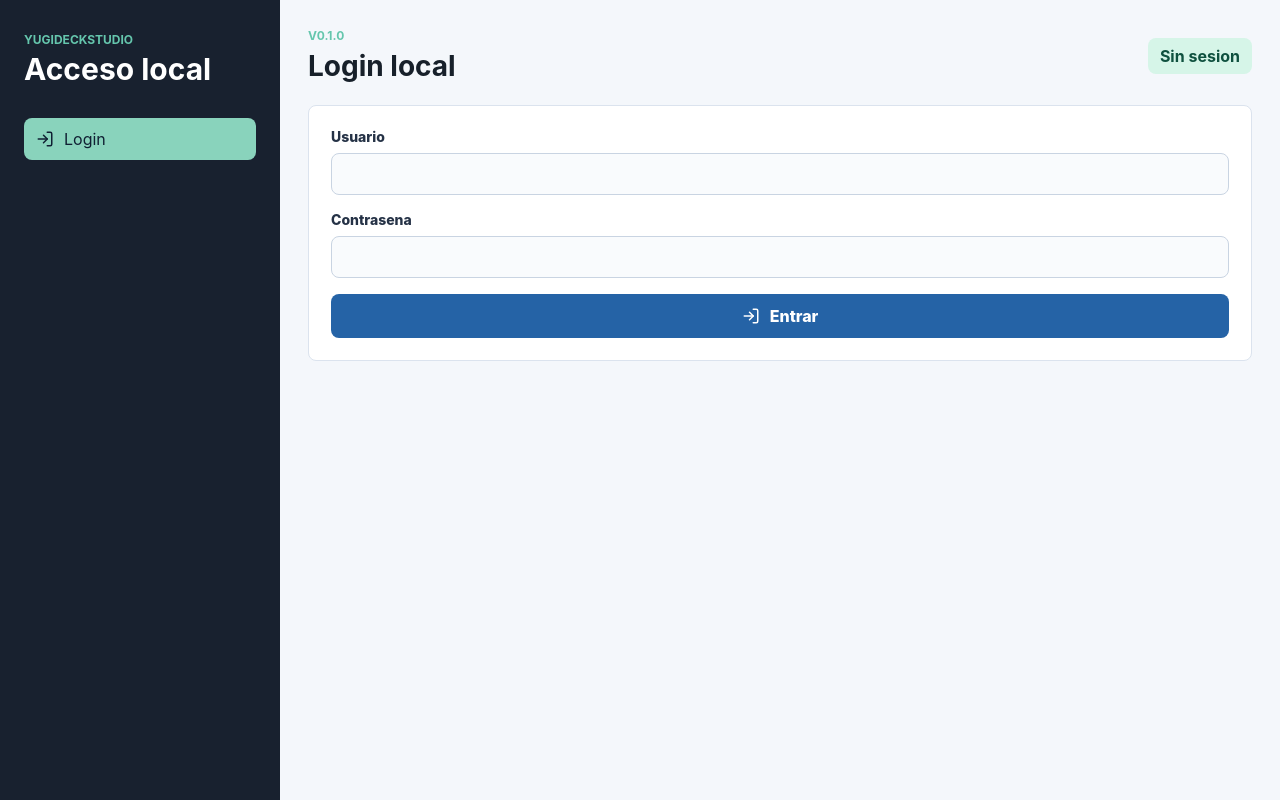
Test: App › hides root-only navigation for operators
In the field labelled "Usuario": x=780, y=174 top-left (331, 153), bottom-right (1229, 195), type "operator"
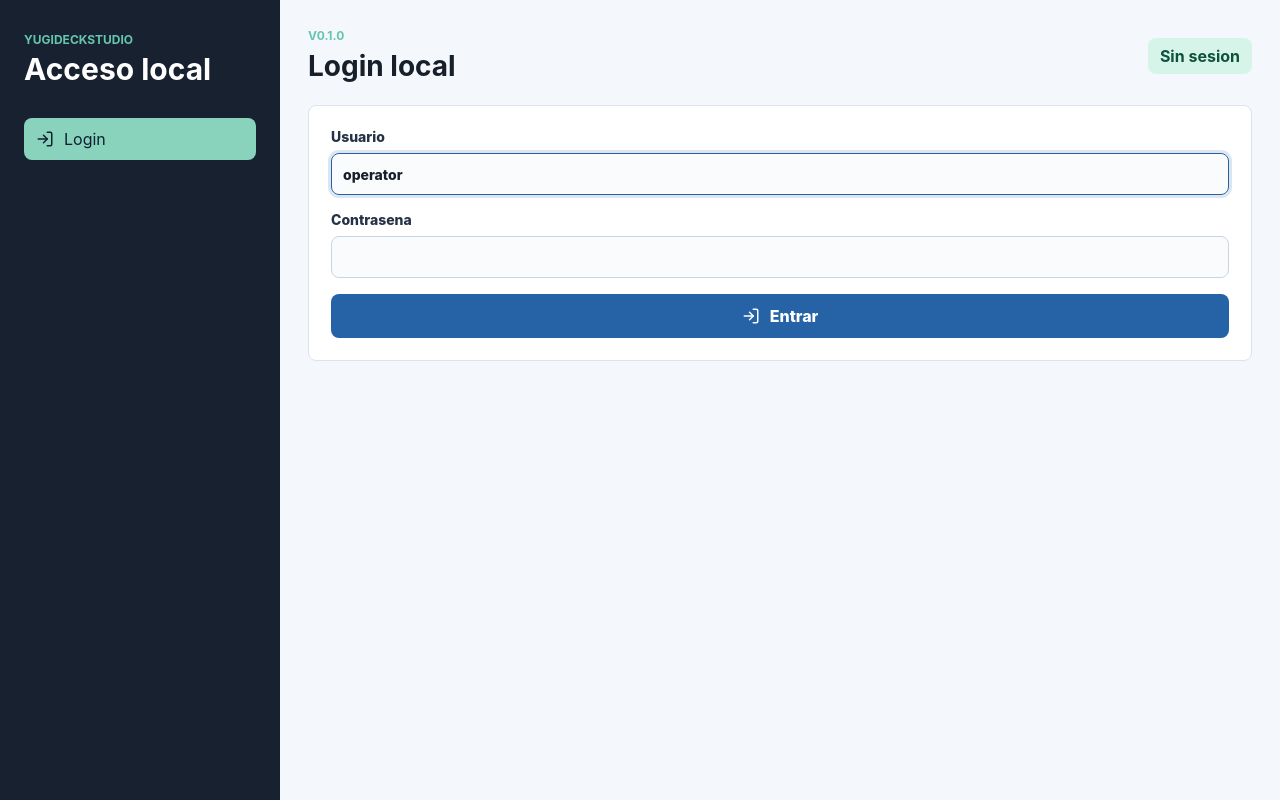
In the password field labelled "Contrasena": x=780, y=257 top-left (331, 236), bottom-right (1229, 278), type "Operator123!"
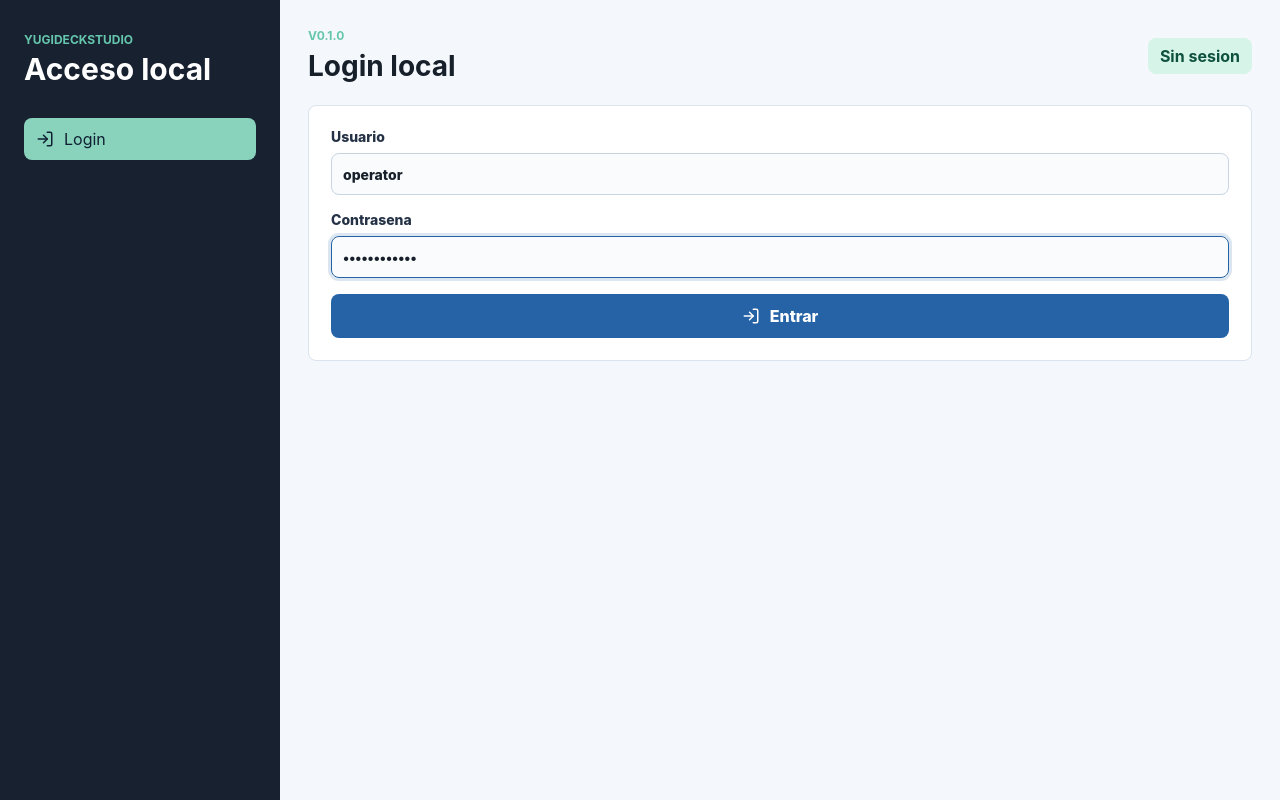
Click the button "Entrar": x=780, y=316 top-left (331, 294), bottom-right (1229, 338)
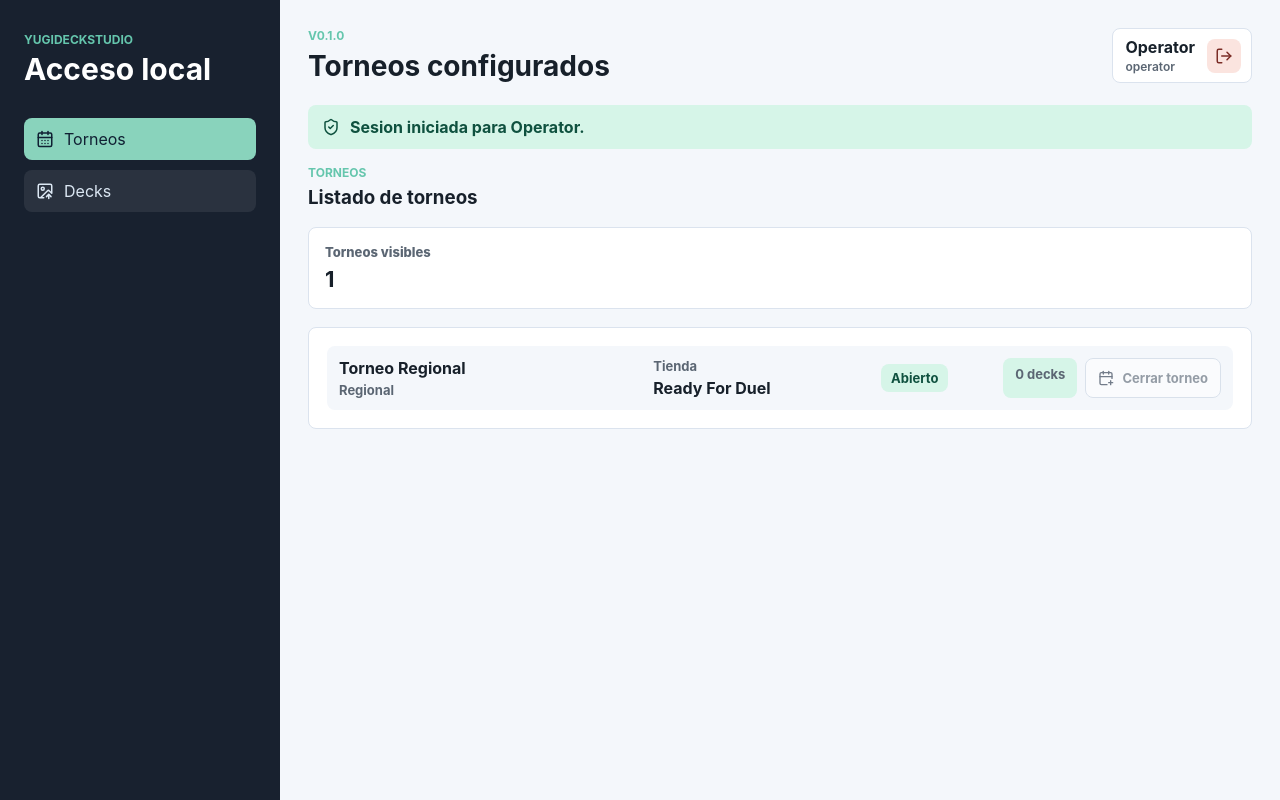
Now the heading "Torneos configurados" is shown, box top-left (308, 49), bottom-right (610, 83)
Now the text "Torneo Regional" is shown, box top-left (339, 358), bottom-right (466, 378)
Now the button "Torneos" is shown, box top-left (24, 118), bottom-right (256, 160)
